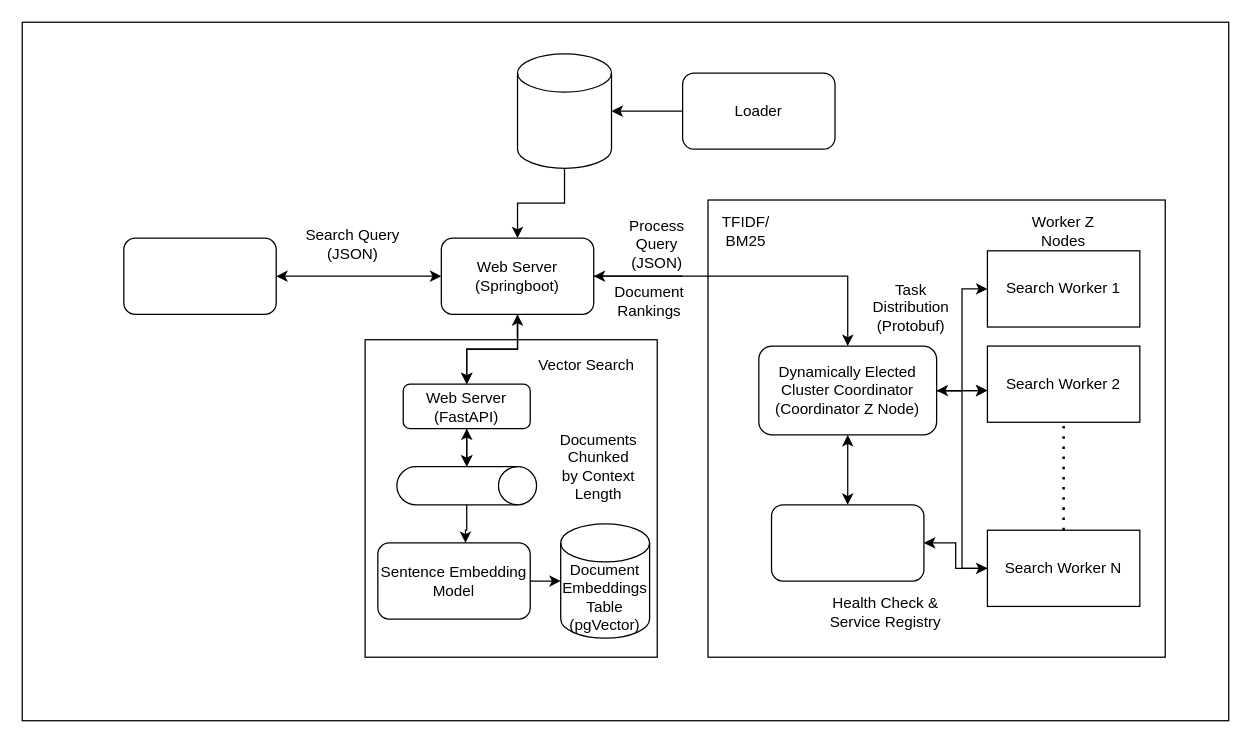
Image size: 1251x743. Some labels were removed from this diagram. The shapes that lost their labels are listed below. From the top down, each one's centre as x and y in pixels, then its label:
[564,110]: Arxiv Papers (Postgres)
[199,275]: Client (React App)
[466,485]: Task Queue (Celery)
[847,542]: Zookeeper Server
